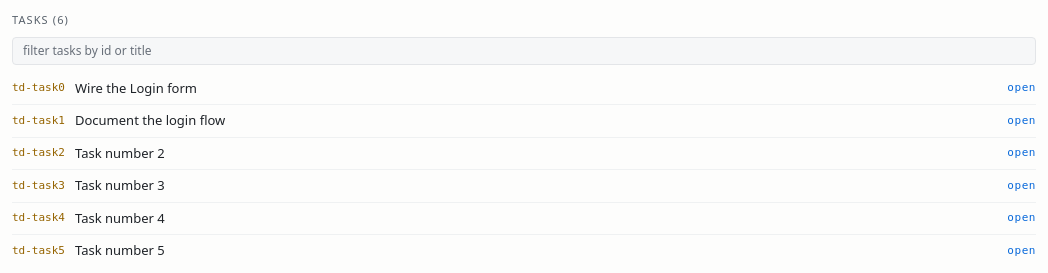
RelatedIssues › search › says so when nothing matches
Step 1. Type "nothing like this" into the search field named "Search tasks" → (524,50), box [12, 36, 1036, 64]
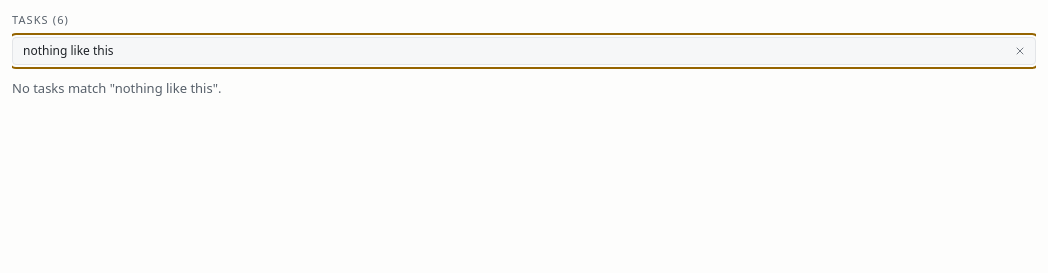
Expected: no list items are shown
Expected: the text "No tasks match \"nothing like this\"." is shown, [12, 78, 222, 96]
